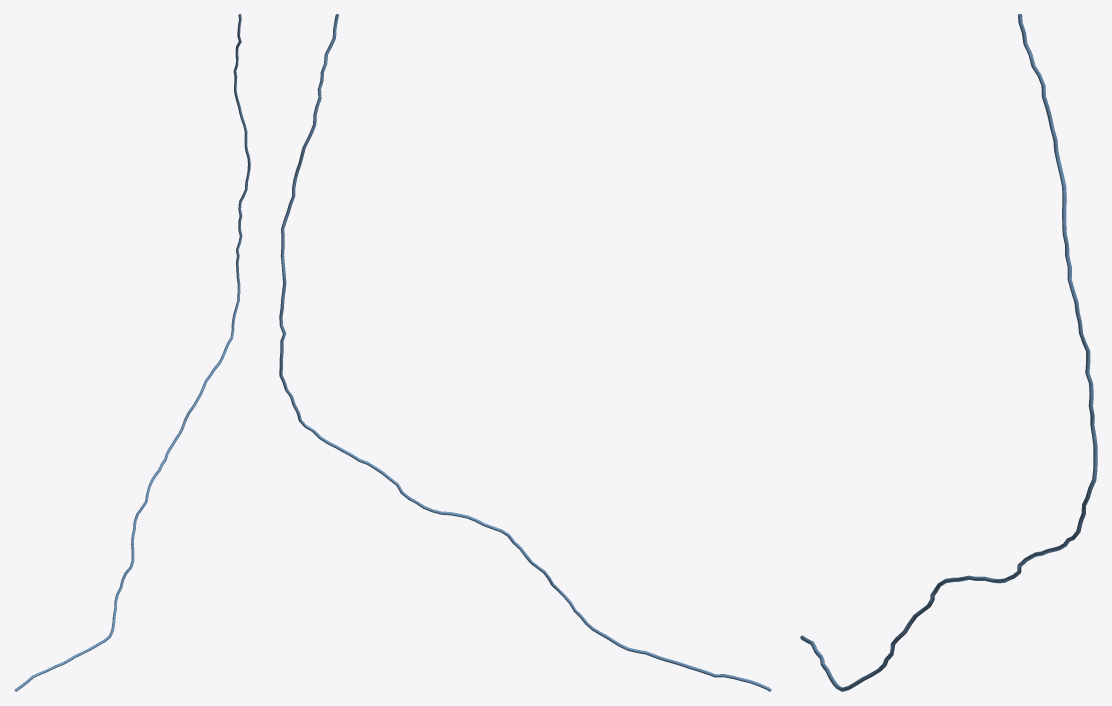
Rendered from sweep136.fbx.
The picture shows the model from 3 angles, left to right: view 1: azimuth 30°, elevation 25°; view 2: azimuth 150°, elevation 25°; view 3: azimuth 270°, elevation 25°; orthographic projection. The views are drawn at different scales.
Visible parts, largest first — view 1: sweep136; view 2: sweep136; view 3: sweep136.
Part boxes in pixels (<box>): sweep136: <box>14,14,250,691</box>; sweep136: <box>279,14,771,691</box>; sweep136: <box>800,14,1097,691</box>.
Size of the model in its own units: 2.61 by 4.25 by 1.35.
